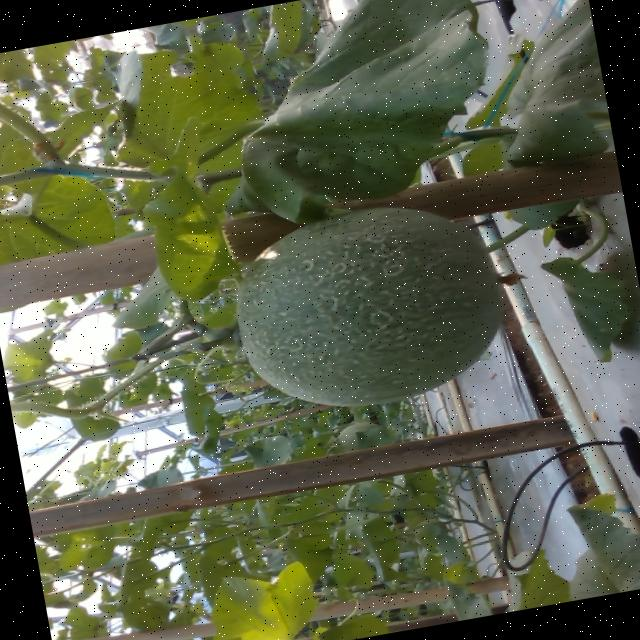melon: (238, 205, 502, 404)
